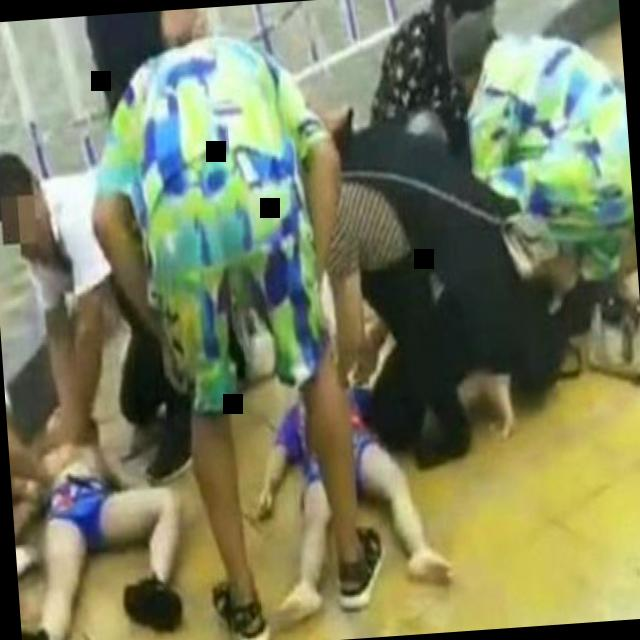Fall-Detected: (232, 334, 458, 626)
